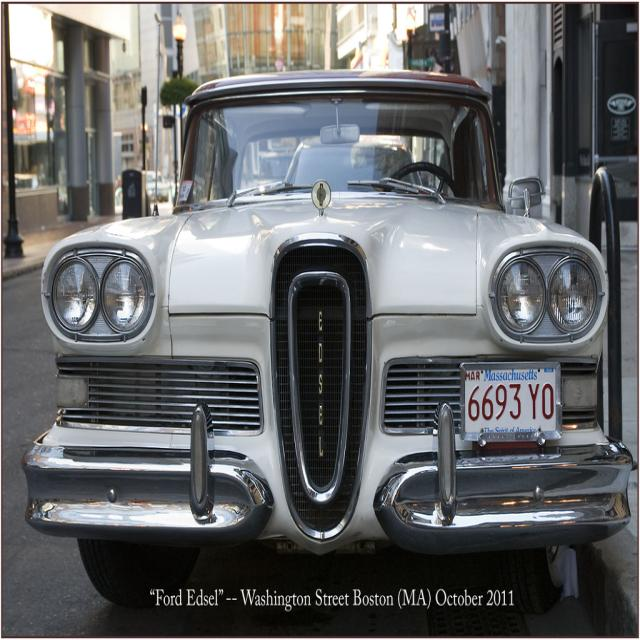car: (15, 33, 617, 598)
